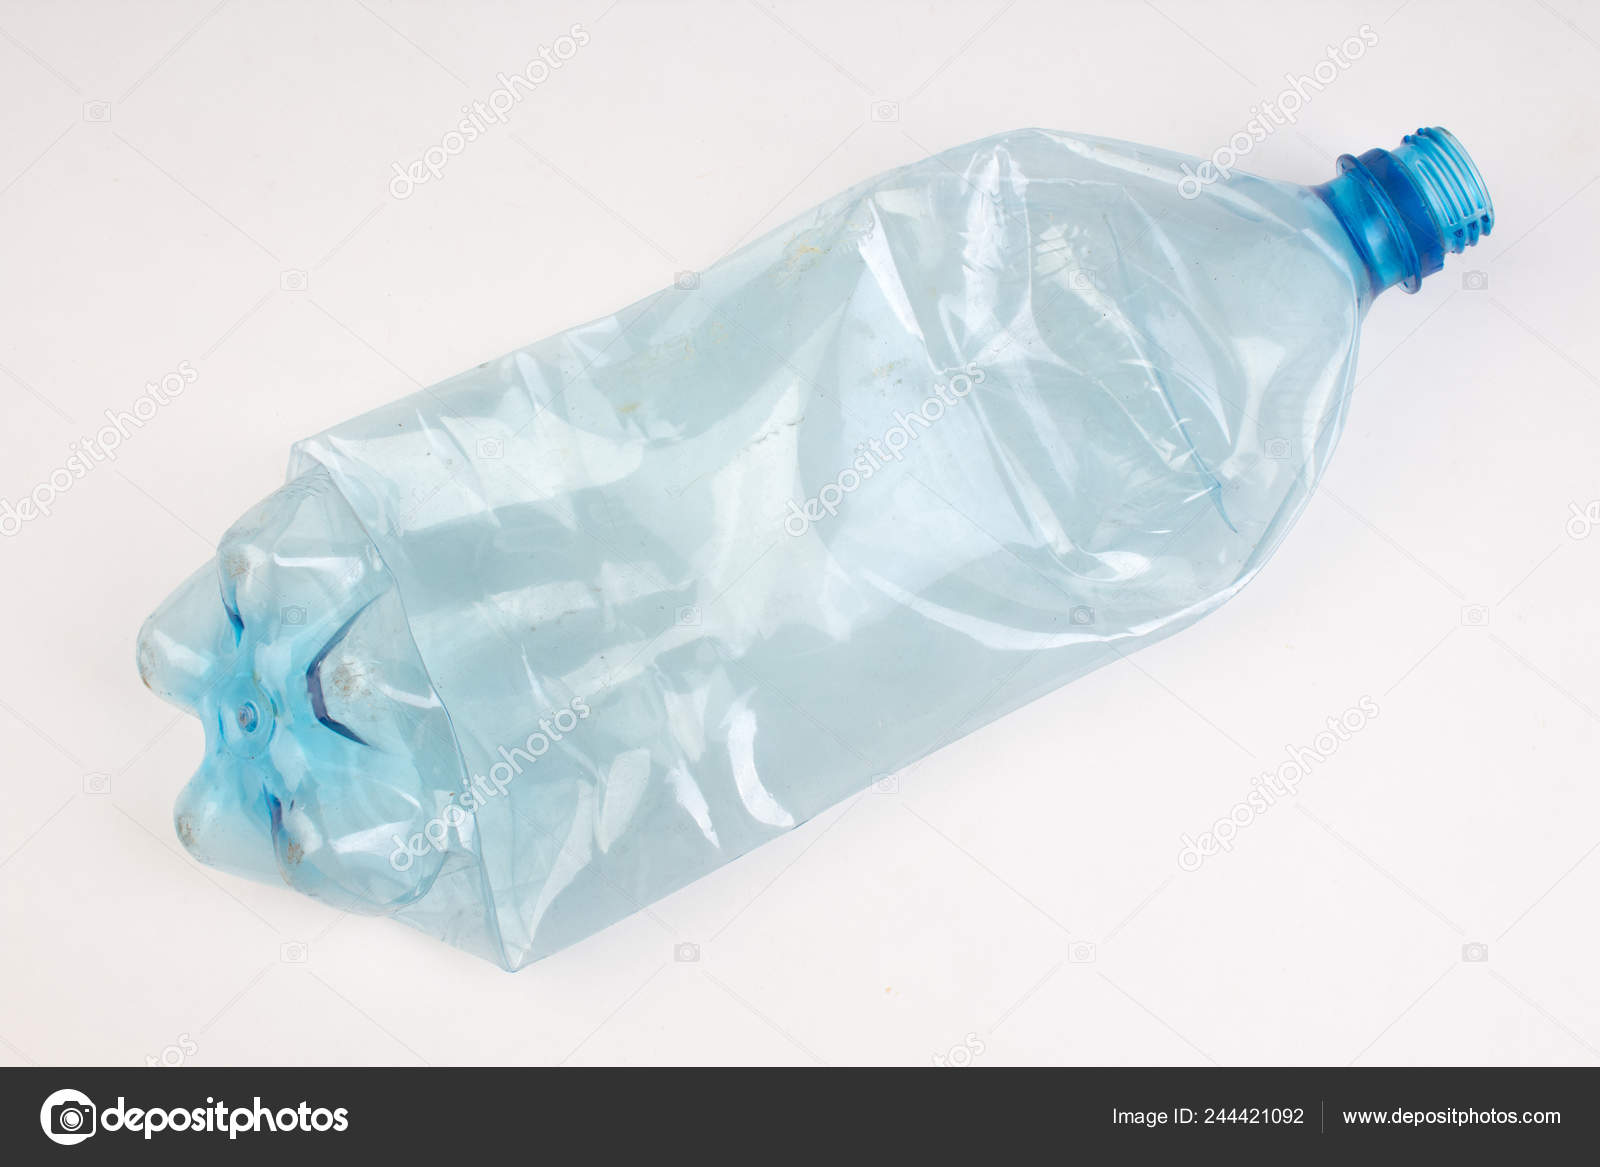plasticbottle: (123, 117, 1494, 982)
